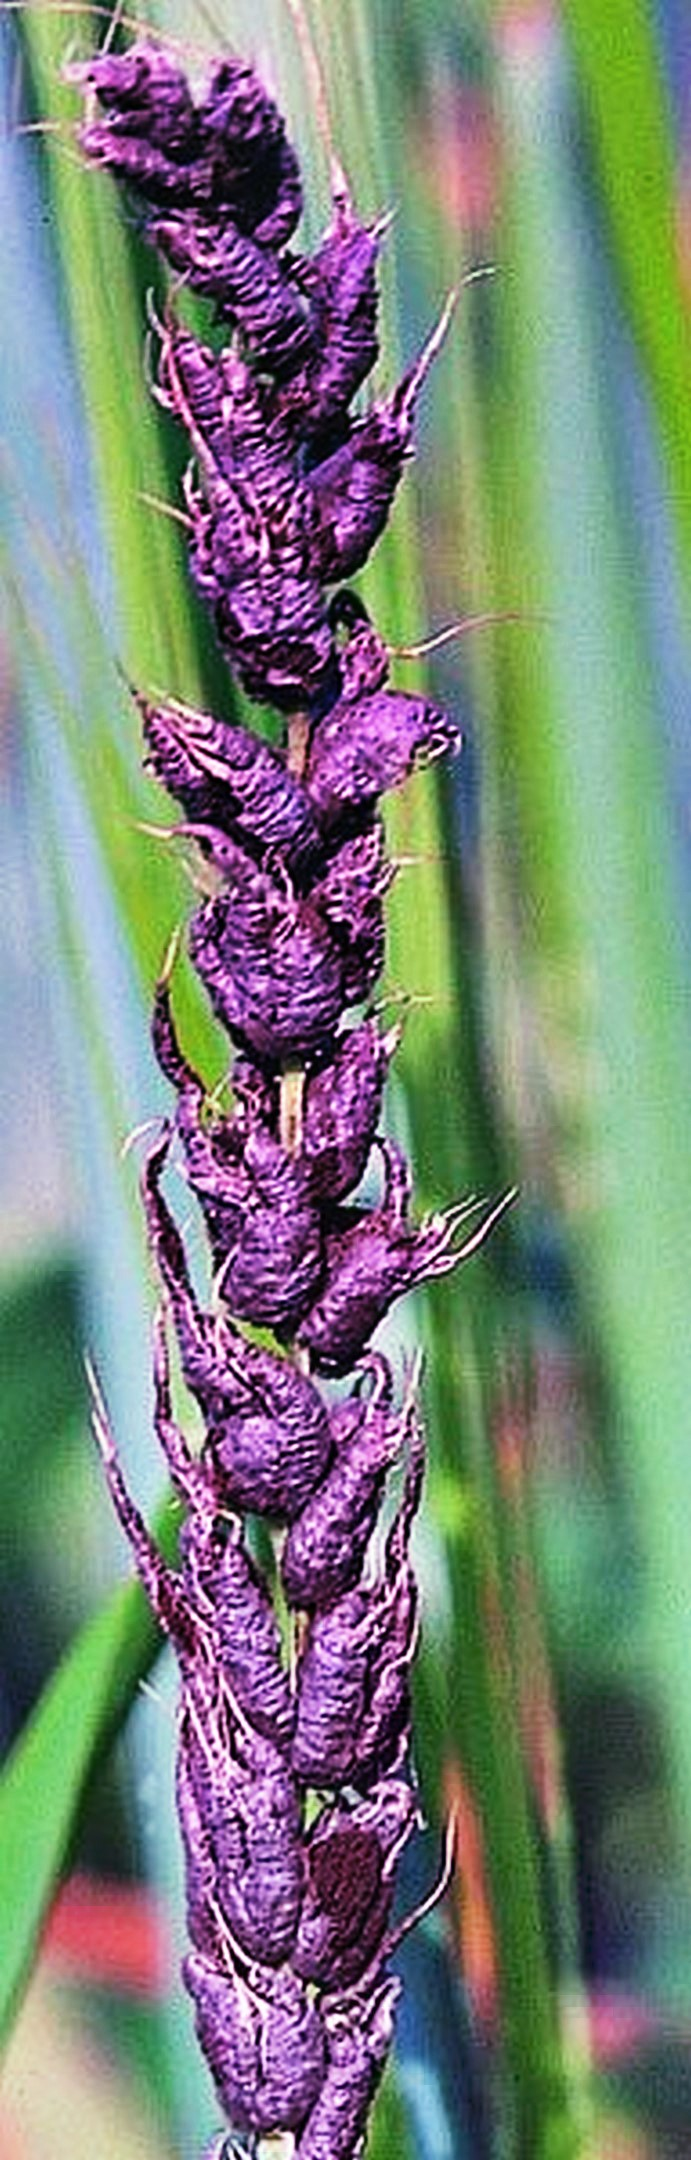Wheat Loose Smut: (30, 54, 502, 2073)
